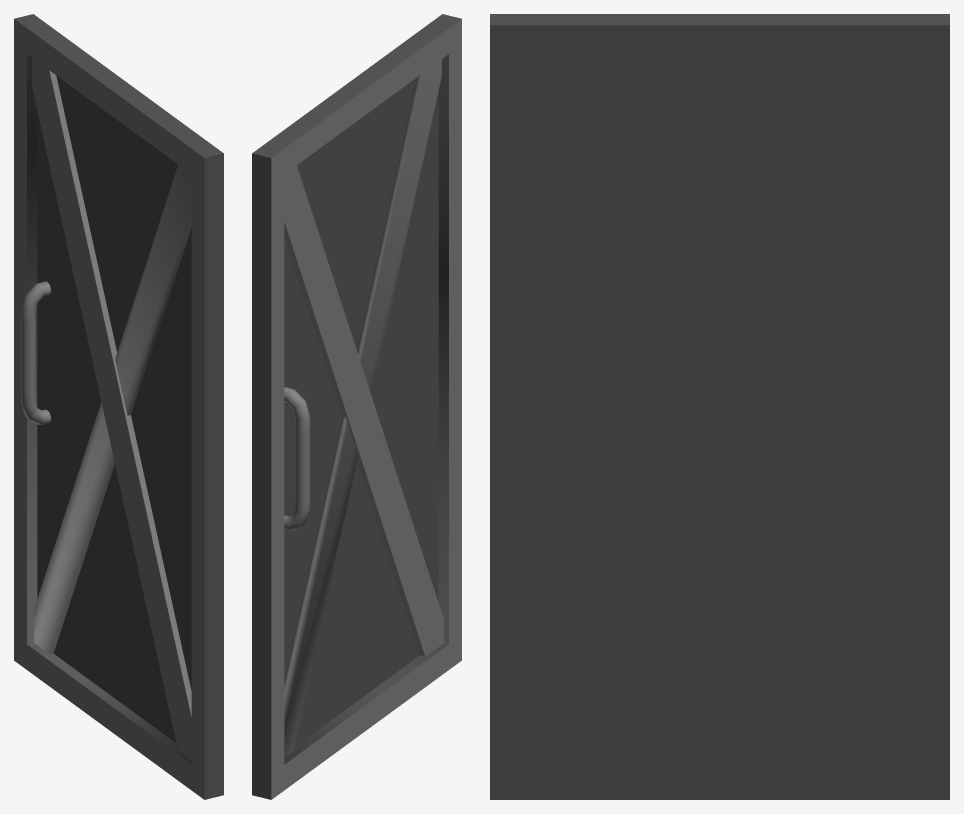
The model's file is MetalDoor.glb.
3 renders of one model, left to right at view 1: azimuth 30°, elevation 25°; view 2: azimuth 150°, elevation 25°; view 3: azimuth 270°, elevation 25°, orthographic. The views are drawn at different scales.
Parts seen in each view (by area): view 1: Door_placeholder_Scene.002; view 2: Door_placeholder_Scene.002; view 3: Door_placeholder_Scene.002.
Part boxes in pixels (x1,y1,x2,y2): Door_placeholder_Scene.002: (14, 14, 223, 799); Door_placeholder_Scene.002: (252, 14, 461, 799); Door_placeholder_Scene.002: (490, 14, 949, 799).
Bounding box in the file's own units: 0.1561 × 2.79 × 1.5.
Materials: 1 (1 with a texture image).
